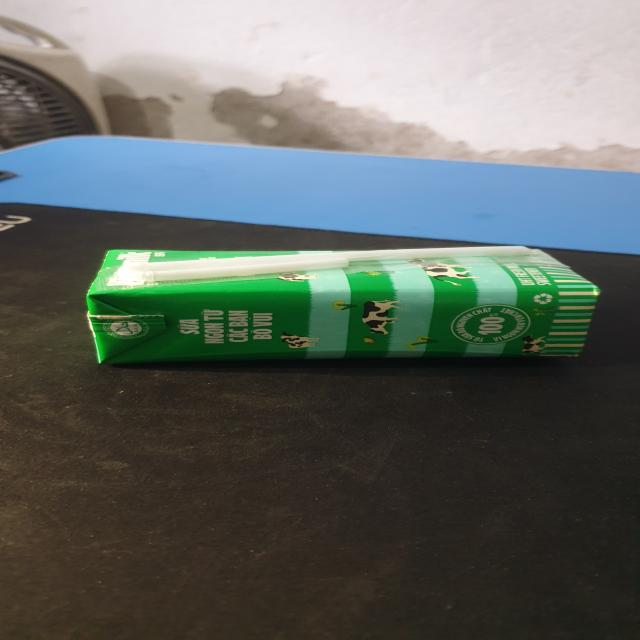Vina: (89, 246, 600, 365)
